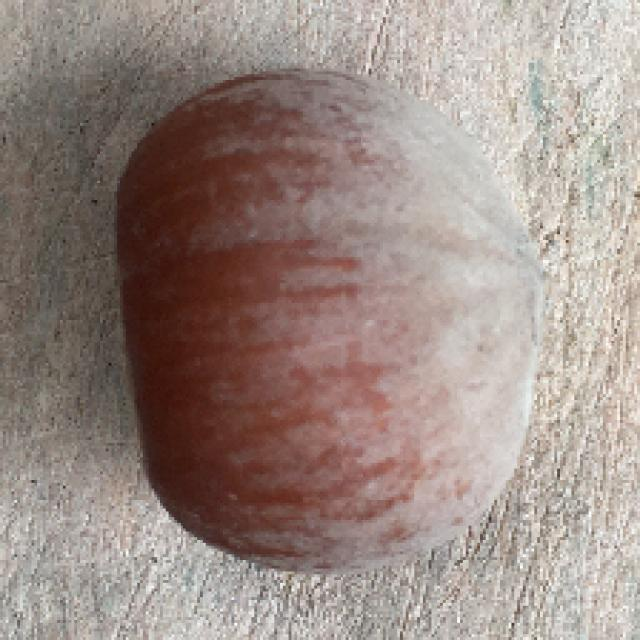qualityHazelnut: (110, 53, 544, 577)
